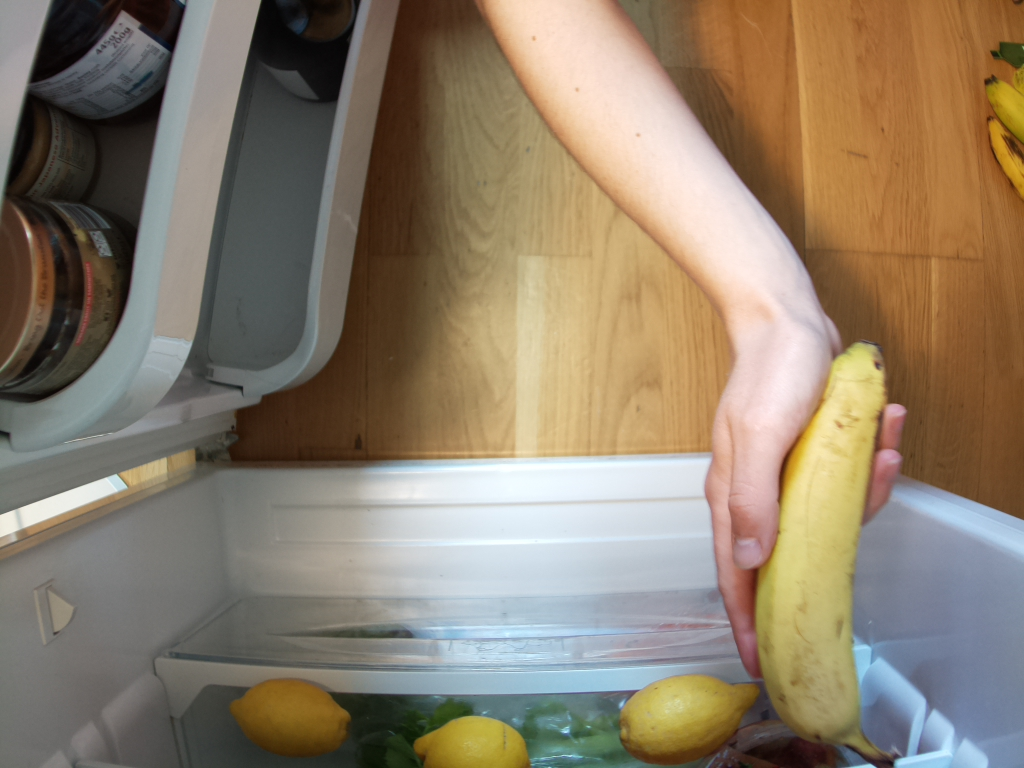banana: (754, 335, 903, 766)
